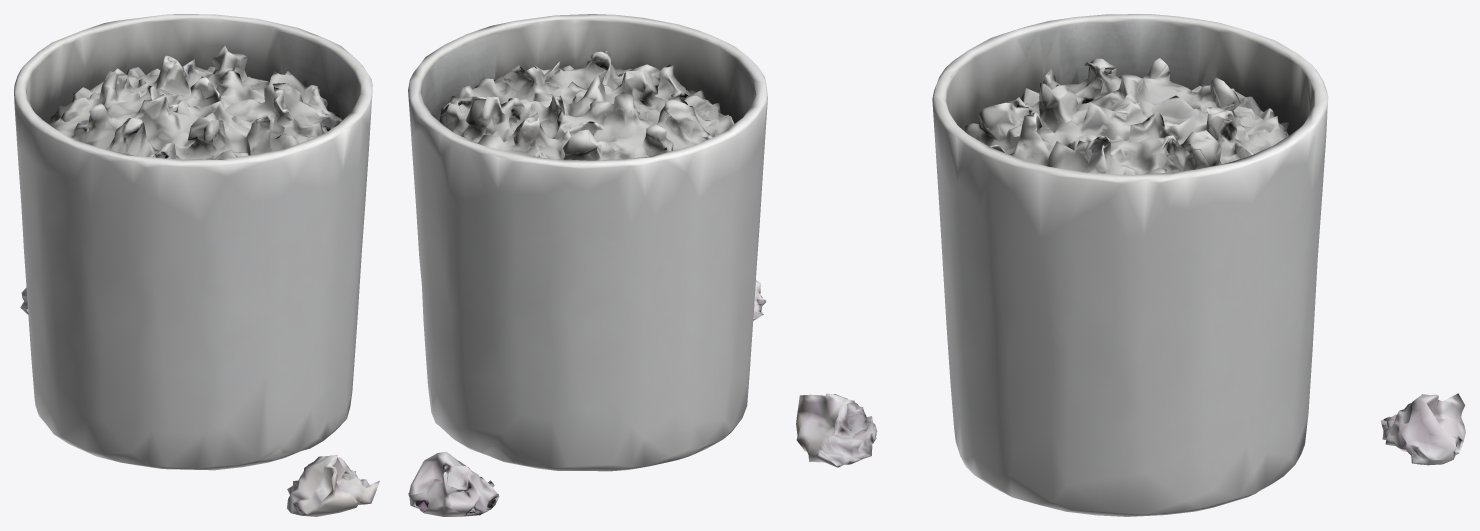
File: çöpkutusu.fbx
3 views of the same model, side by side, from view 1: azimuth 30°, elevation 25°; view 2: azimuth 150°, elevation 25°; view 3: azimuth 270°, elevation 25° (orthographic). The views are drawn at different scales.
Parts seen in each view (by area): view 1: Mesh_0; view 2: Mesh_0; view 3: Mesh_0.
Part boxes in pixels (<box>): Mesh_0: <box>14,14,379,516</box>; Mesh_0: <box>408,14,767,516</box>; Mesh_0: <box>796,14,1465,516</box>.
Size of the model in its own units: 113 by 111 by 191.
1 material, 1 textured.
